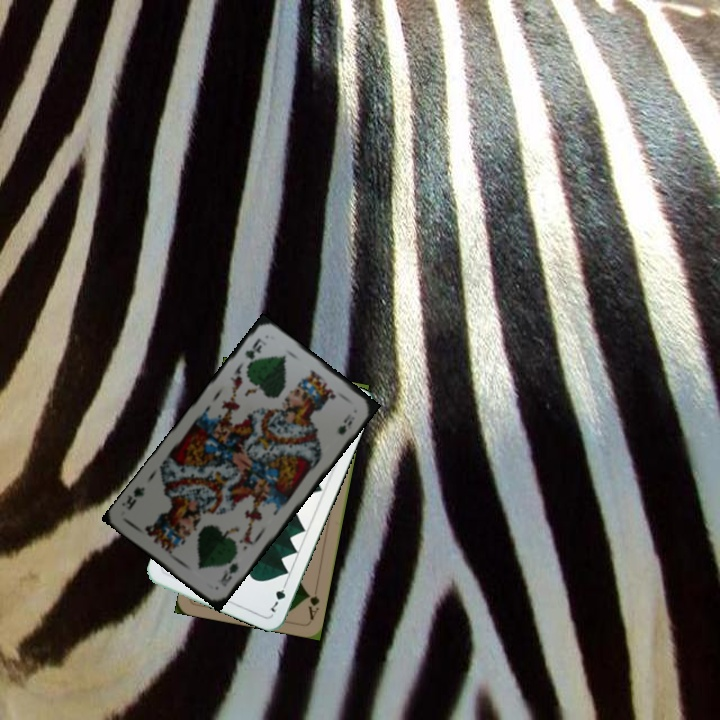G7: (266, 577, 290, 615)
GA: (303, 590, 322, 622)
GK: (216, 552, 241, 589), (241, 333, 264, 370)
